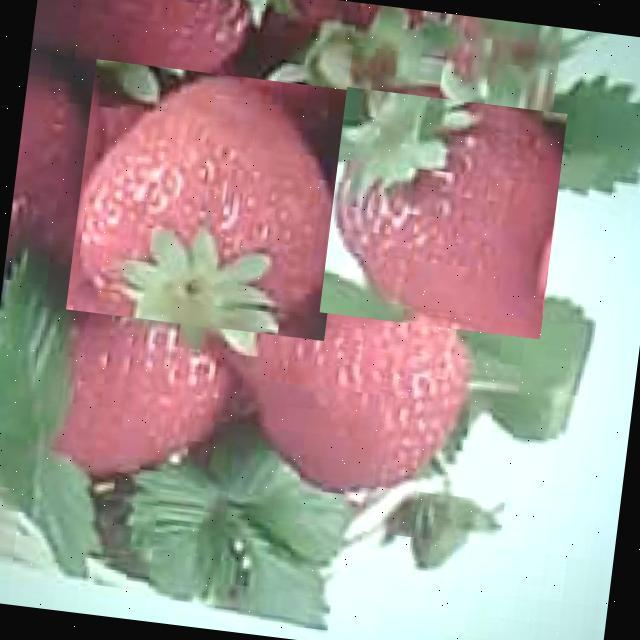ripe: (66, 59, 354, 340), (319, 86, 567, 339)
